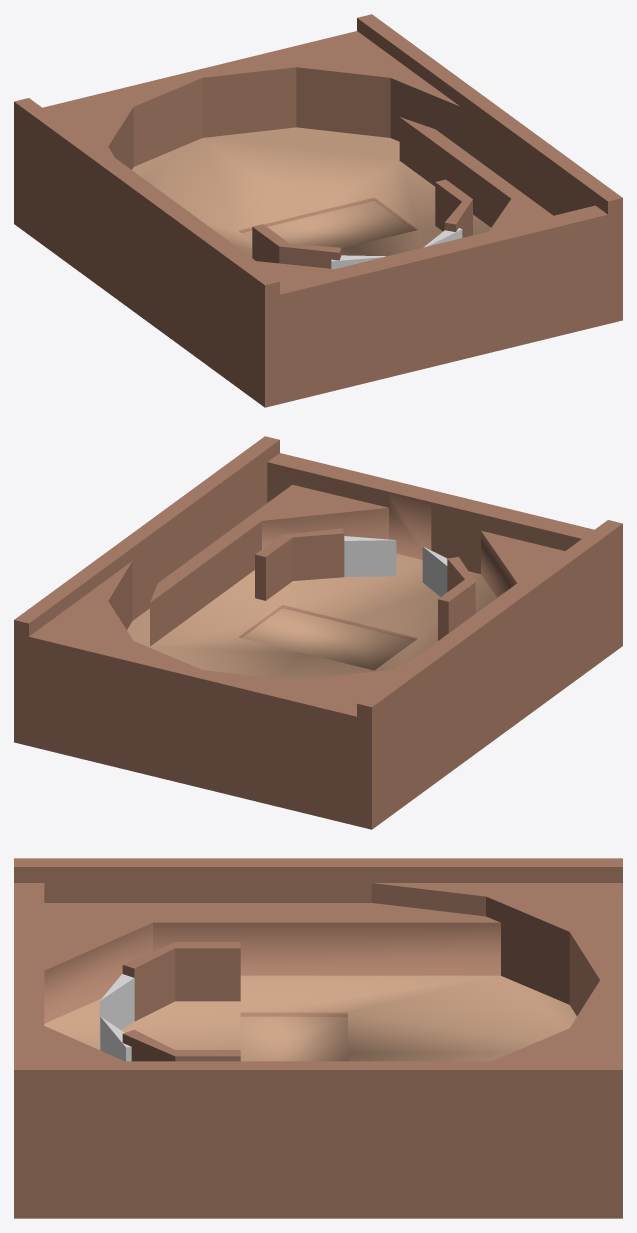
File: minigame_bord.fbx
3 views of the same model, one above another, from view 1: azimuth 30°, elevation 25°; view 2: azimuth 150°, elevation 25°; view 3: azimuth 270°, elevation 25° (orthographic). The views are drawn at different scales.
Visible parts, largest first — view 1: bord; view 2: bord, pin1, pin2; view 3: bord, pin2, pin1.
Part boxes in pixels (box(x1,y1,x2,y2)): bord: box(14, 14, 622, 407); bord: box(14, 436, 622, 829); pin1: box(344, 536, 396, 576); pin2: box(422, 546, 447, 596); bord: box(14, 858, 622, 1218); pin2: box(99, 974, 134, 1044); pin1: box(100, 1016, 131, 1061).
Bounding box in the file's own units: 171 × 56 × 208.
